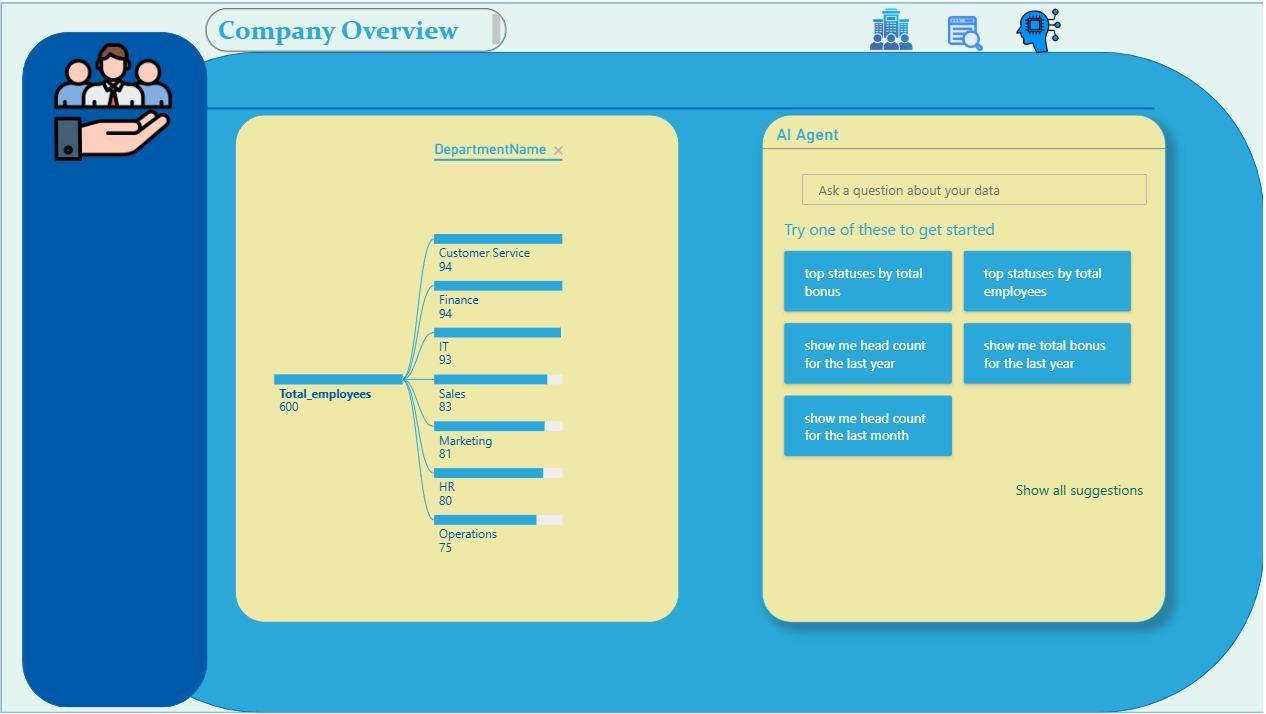

The page's visual inventory and layout, read from the dashboard file:
{"tool":"powerbi","page":{"name":"AI Agent","canvas":[1280,720],"ordinal":4},"visuals":[{"type":"shape","box":[0,0,1281.5,720.4],"z":0},{"type":"shape","box":[95.5,50.2,1185.3,670.4],"z":1000},{"type":"shape","box":[21,29.1,187.8,684.9],"z":2000},{"type":"shape","box":[208.9,50.2,961.8,115],"z":3000},{"type":"textbox","box":[208.9,6.5,304.4,43.7],"z":4000},{"type":"image","box":[34,35.6,160.3,129.5],"z":5000},{"type":"qnaVisual","title":"AI Agent","box":[772.4,115,409.7,514.9],"z":6000},{"type":"decompositionTreeVisual","fields":{"Analyze":["\"Measures\".Total_employees"],"ExplainBy":["DimDepartment (2).DepartmentName"]},"box":[238,115,450.1,514.9],"z":7000},{"type":"image","box":[923.7,6.8,108.5,50.8],"z":8000},{"type":"image","box":[864.4,0,78,54.2],"z":9000},{"type":"image","box":[1010.2,0,84.7,57.6],"z":10000}]}

Visuals, with their boxes in screenshot pixels (x1, y1, x2, y2), scaled from the page's 1280x720 canvas onto the 1266x714 screenshot:
shape: bbox=[0, 0, 1265, 713]
shape: bbox=[94, 50, 1265, 713]
shape: bbox=[21, 29, 207, 708]
shape: bbox=[207, 50, 1158, 164]
textbox: bbox=[207, 6, 508, 50]
image: bbox=[34, 35, 192, 164]
"AI Agent" qnaVisual: bbox=[764, 114, 1169, 625]
decompositionTreeVisual - "Measures".Total_employees x DimDepartment (2).DepartmentName: bbox=[235, 114, 681, 625]
image: bbox=[914, 7, 1021, 57]
image: bbox=[855, 0, 932, 54]
image: bbox=[999, 0, 1083, 57]
